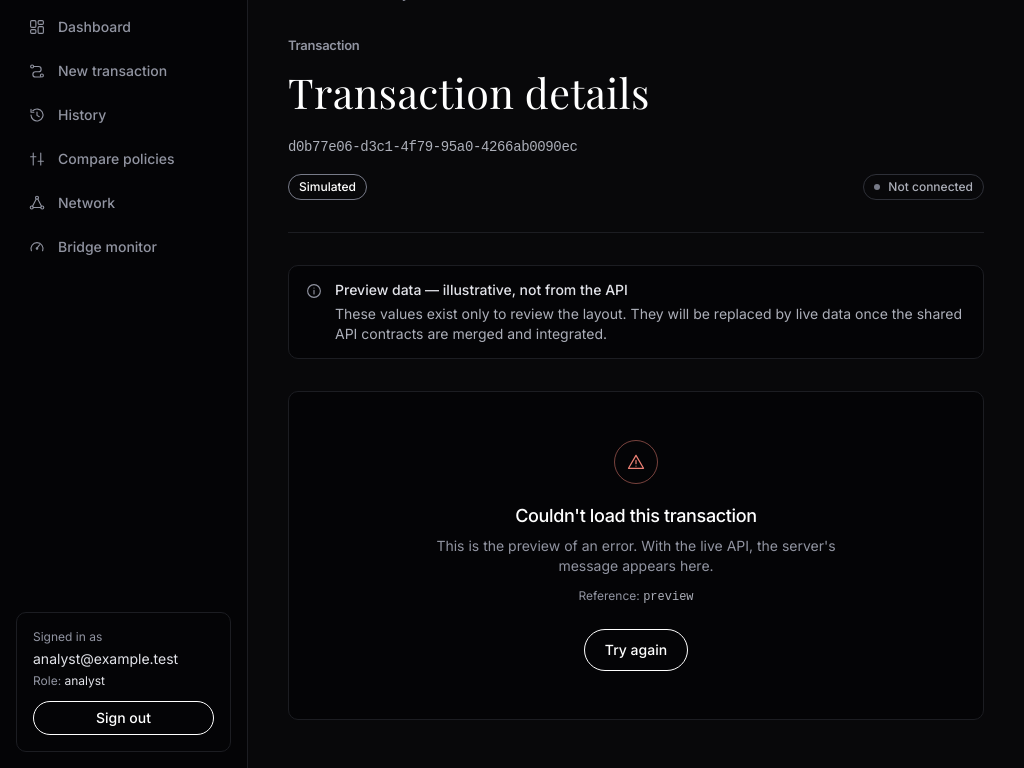
Test: TransactionDetailPage states at 1024px and above › shows the error state and recovers with Try again
The image size is (1024, 768).
(page scrolled)
Expected: the message shows "Couldn't load this transaction", x1=515 y1=505 x2=757 y2=526
Click the button "Try again": coordinates (636, 650) x1=584 y1=630 x2=688 y2=672
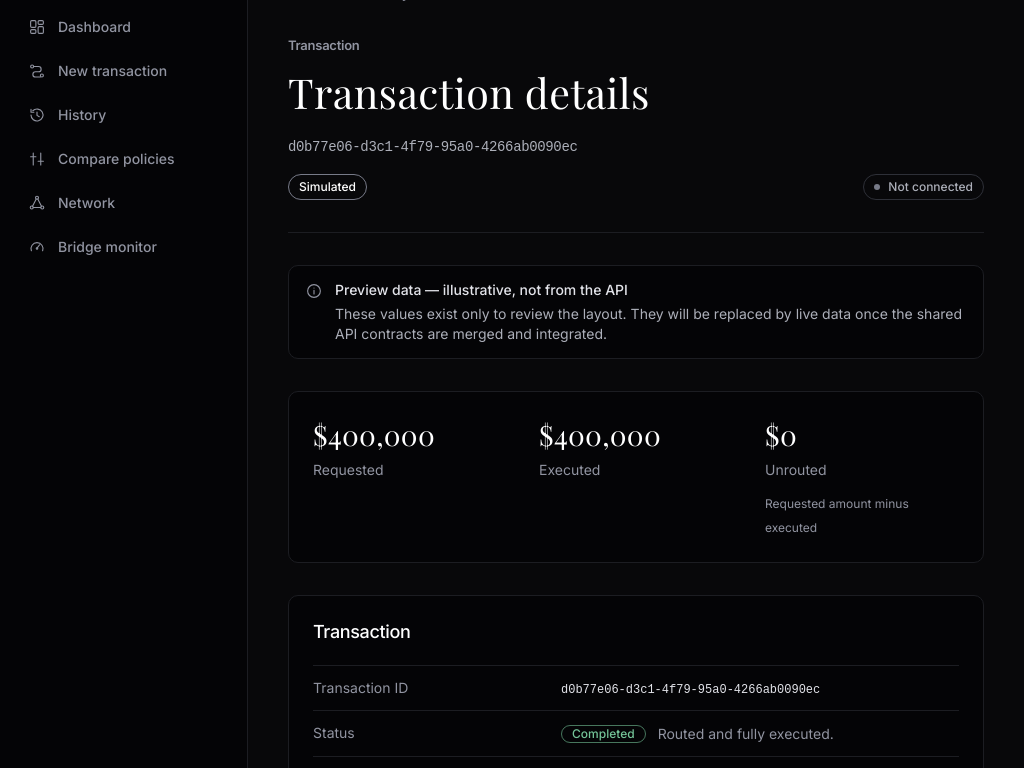
Now the message is gone
Now the element named "Amounts" is shown, box x1=288 y1=391 x2=984 y2=563
